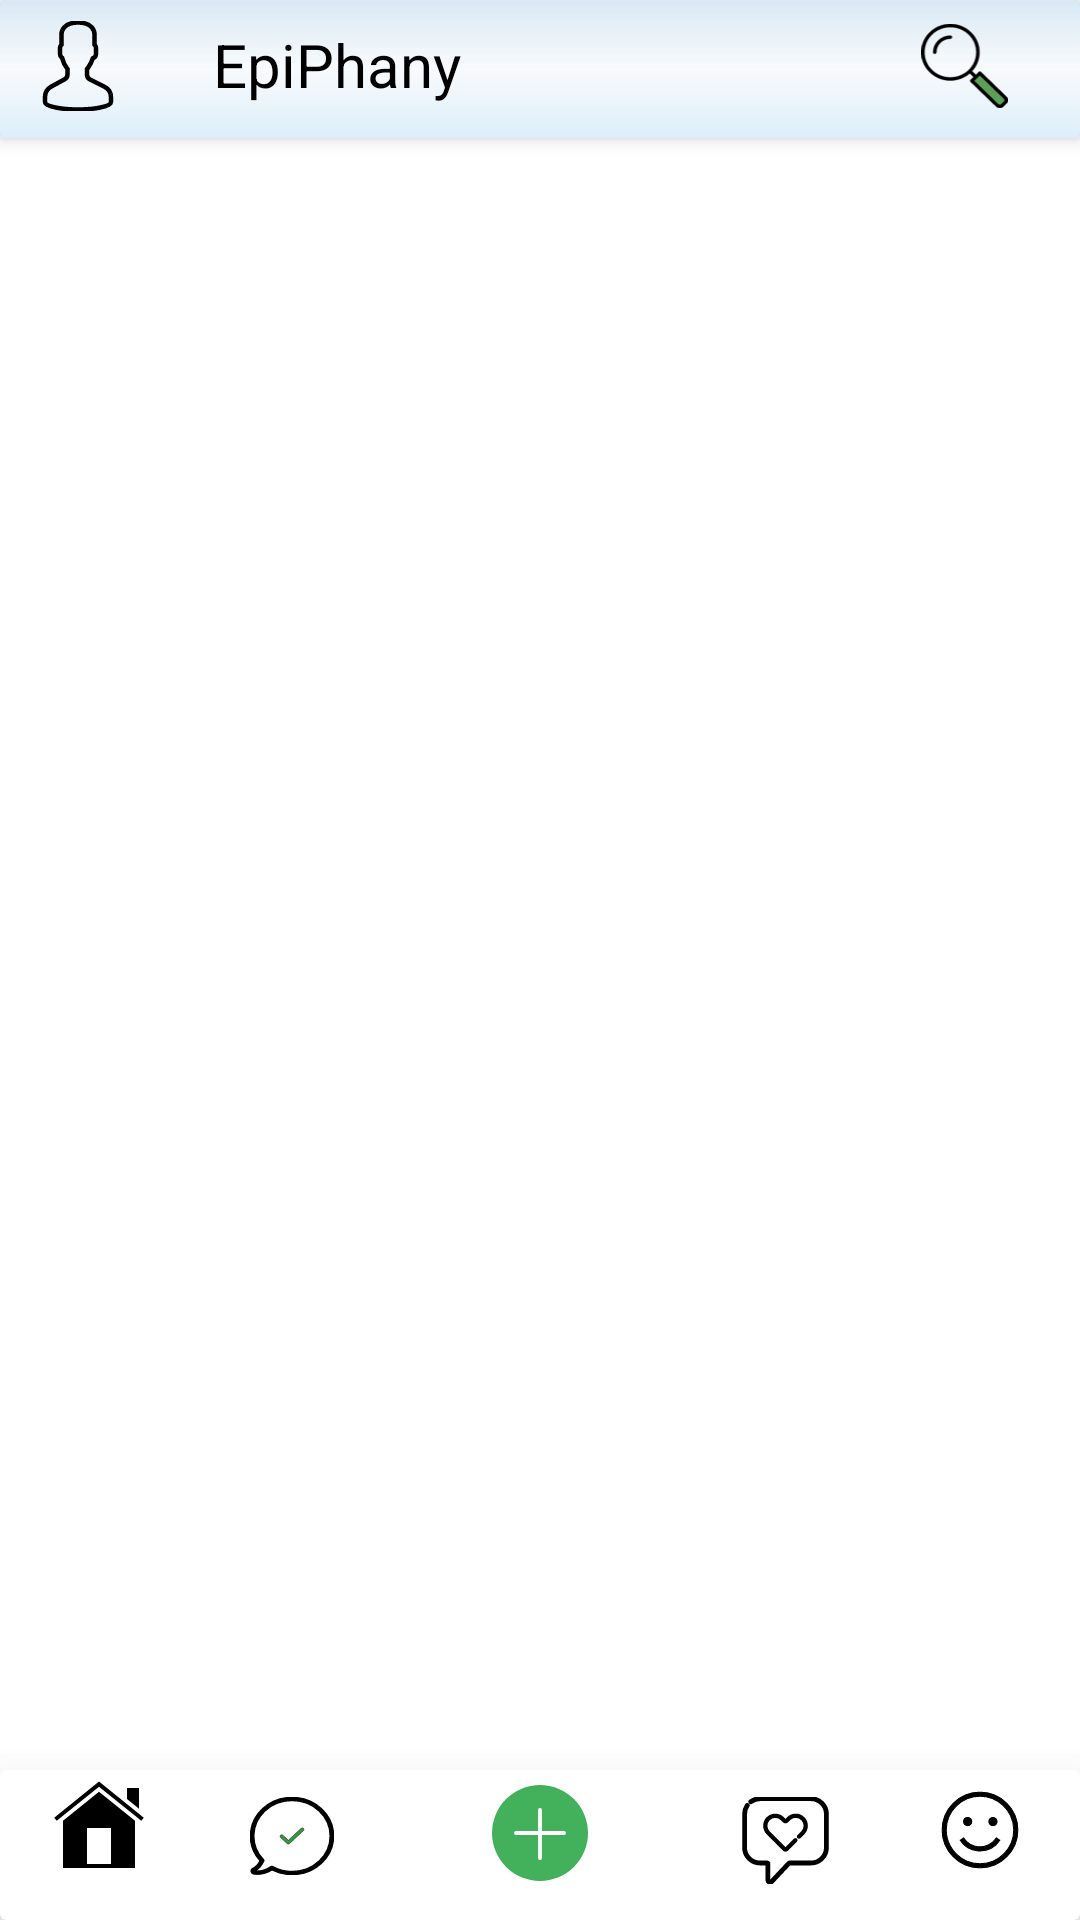

Where to tap for icons on this 1080w x 1920h app screen, as (x=x, y=y):
chat: (x=292, y=1836)
home max: (x=99, y=1824)
plus: (x=540, y=1833)
search: (x=964, y=66)
